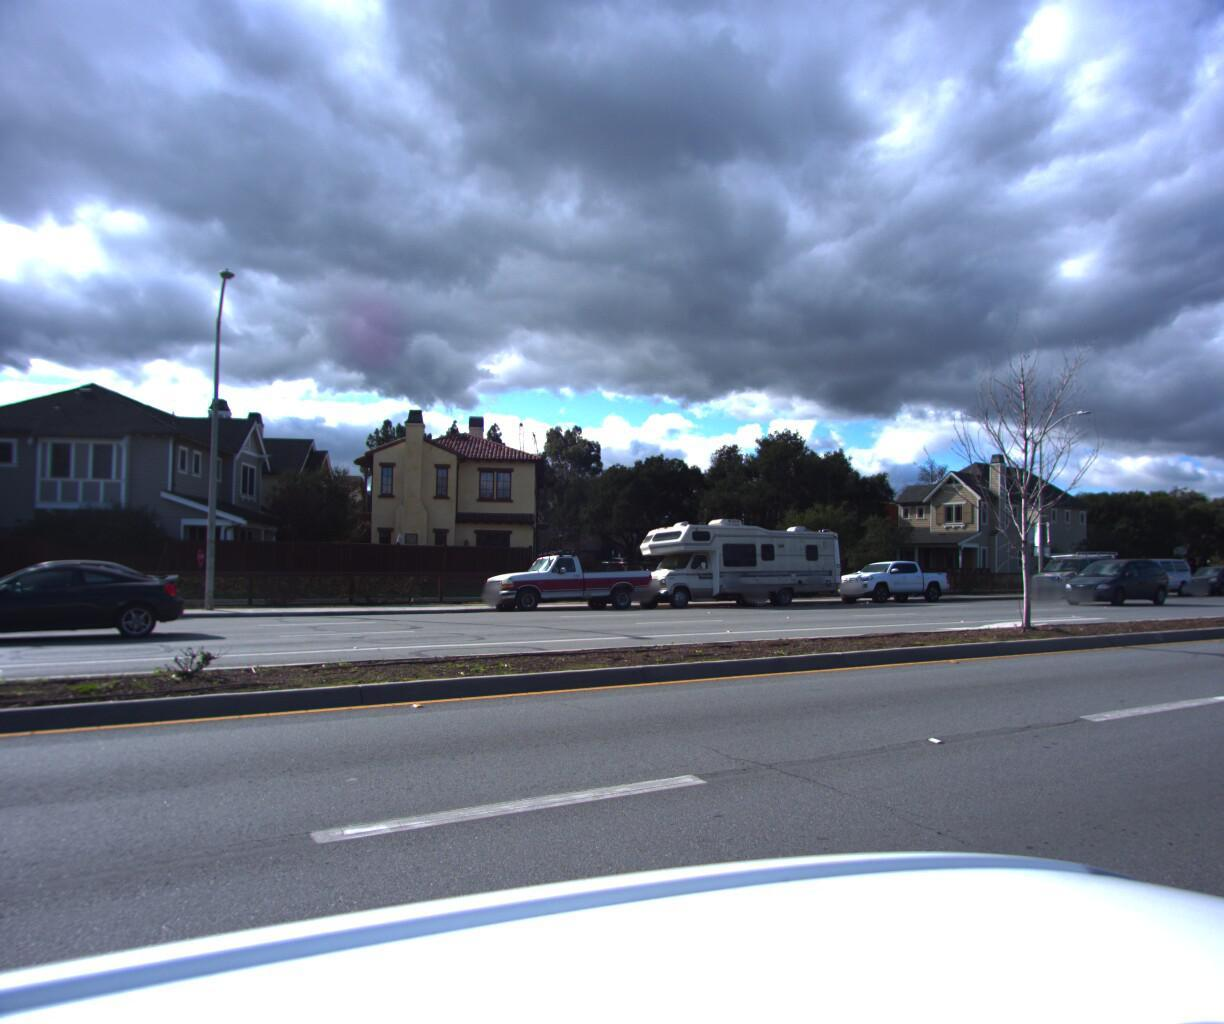car: (0, 553, 196, 647), (0, 556, 182, 623), (472, 548, 656, 611), (822, 553, 951, 603), (1053, 551, 1176, 602), (1019, 545, 1122, 593), (1097, 549, 1194, 595), (1174, 560, 1224, 592)
other_vehicle: (623, 505, 844, 609)
